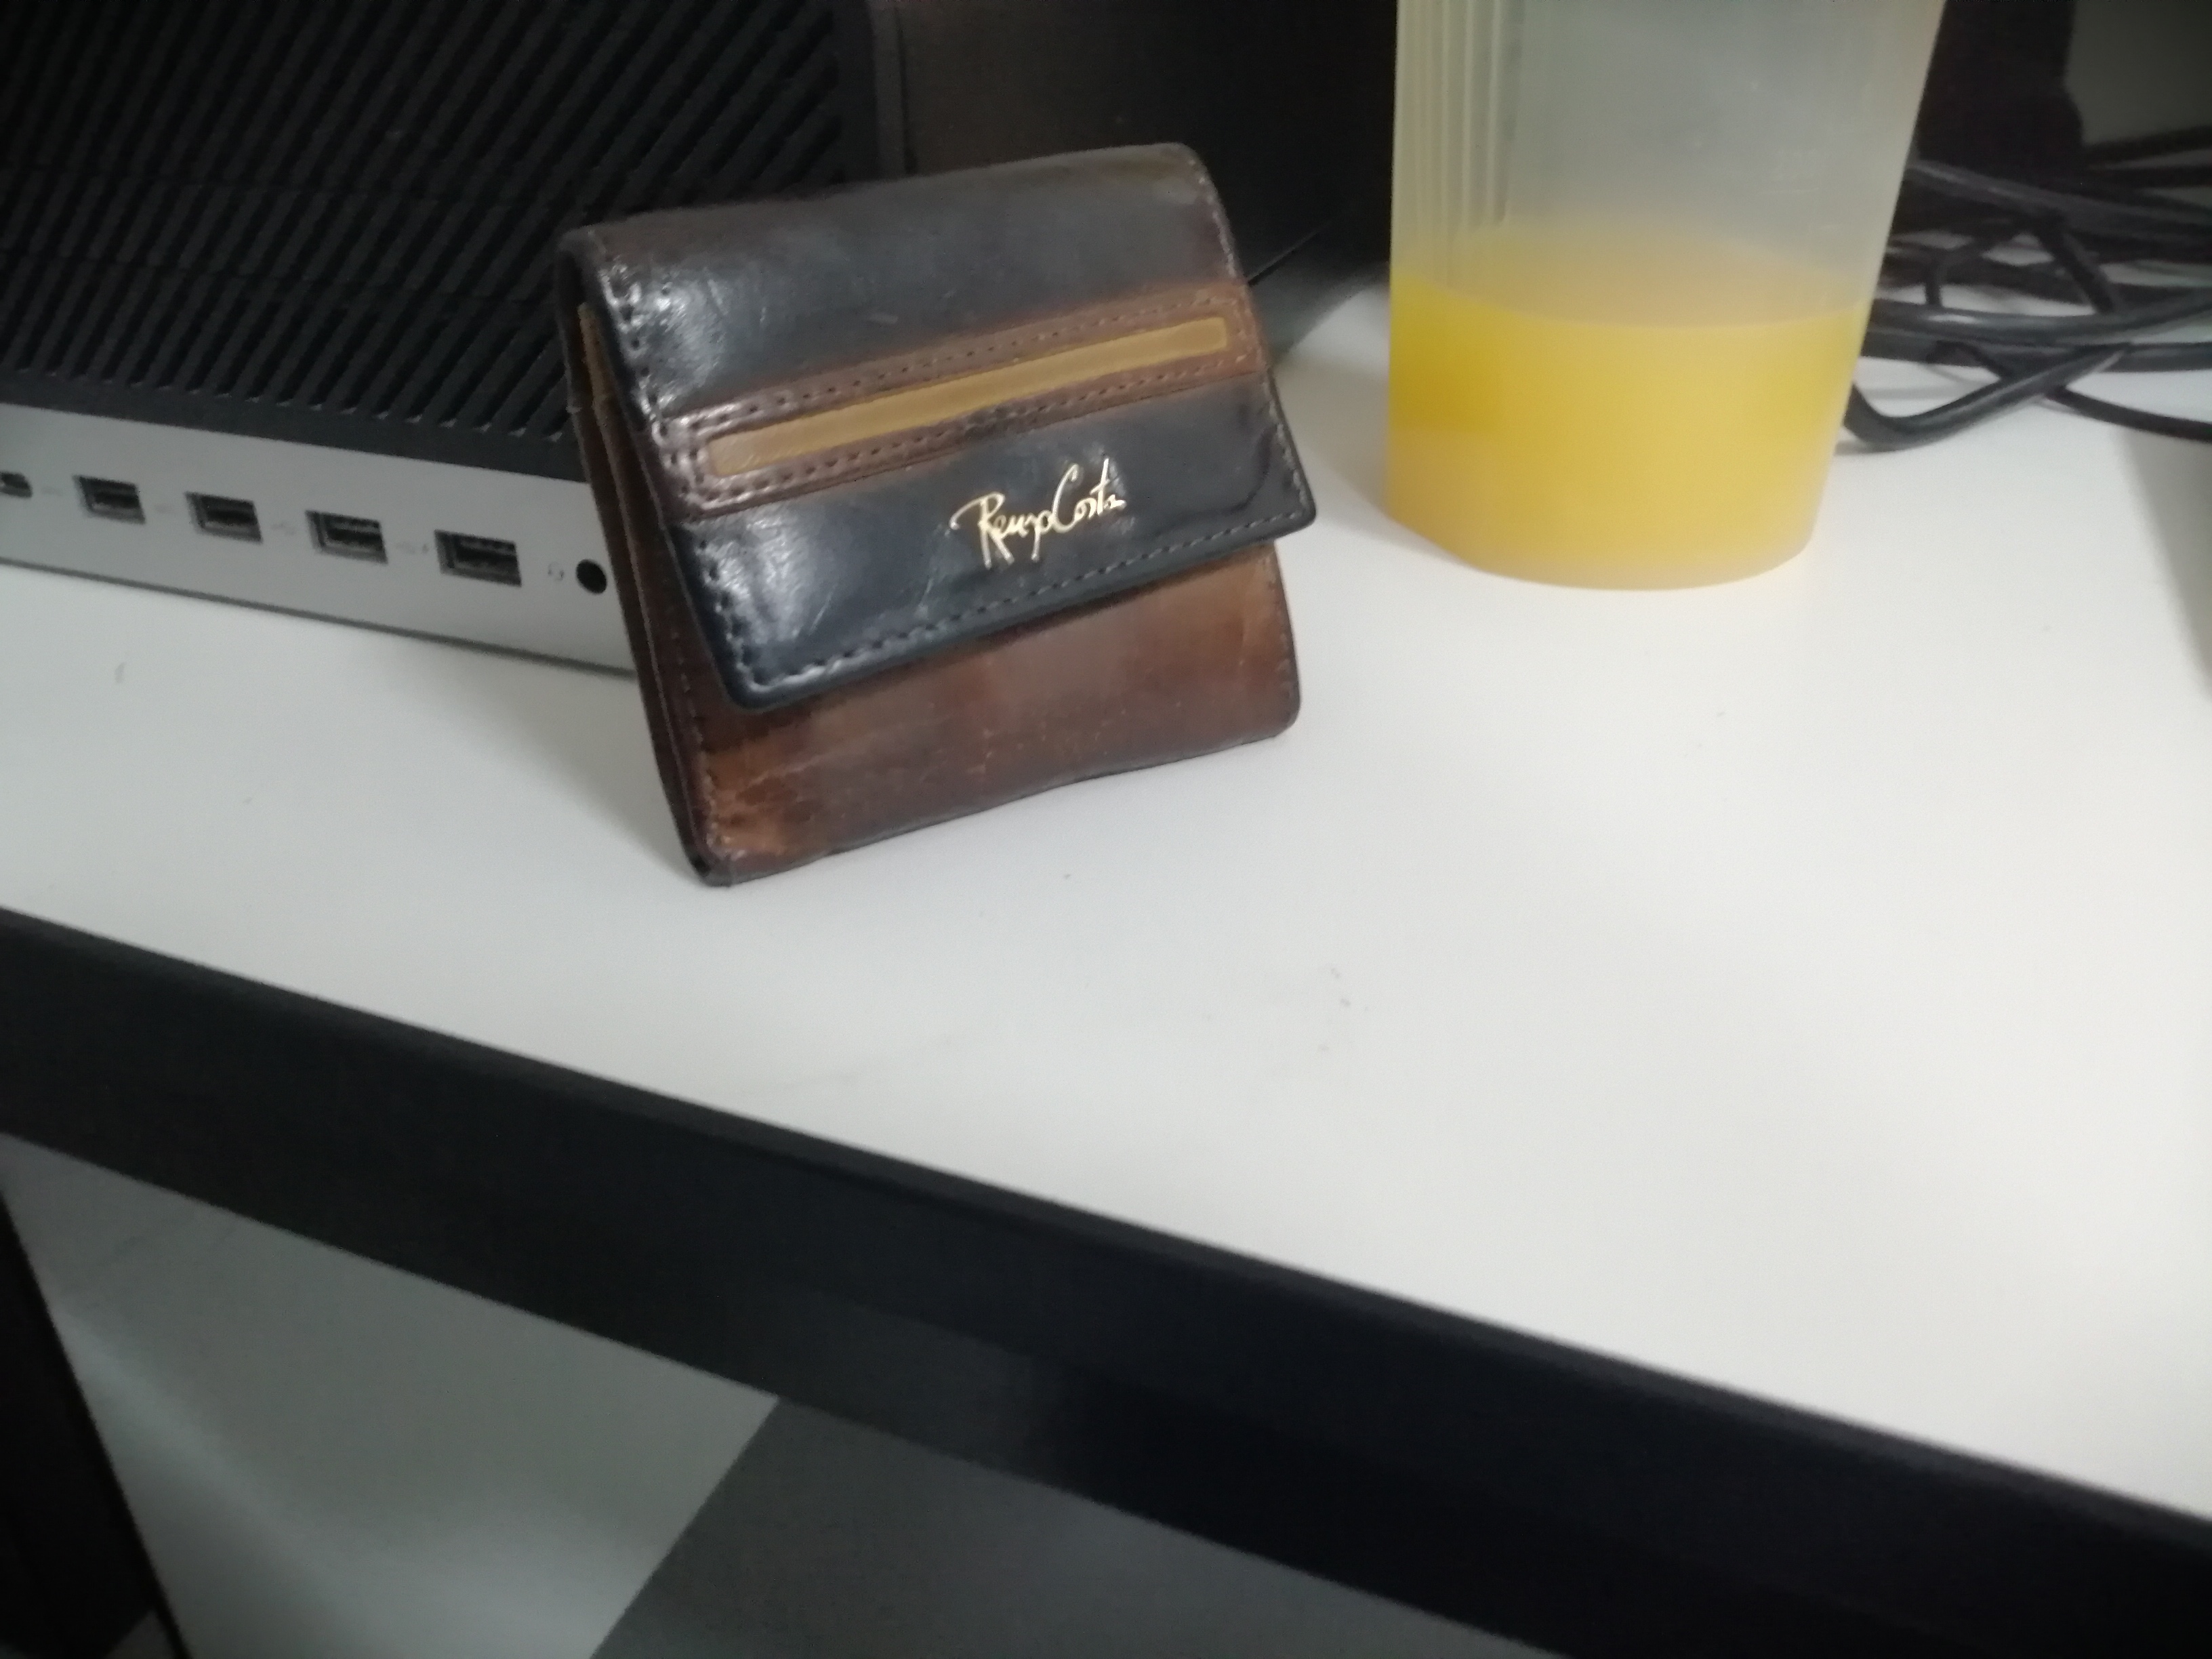monedero: (529, 105, 1383, 941)
